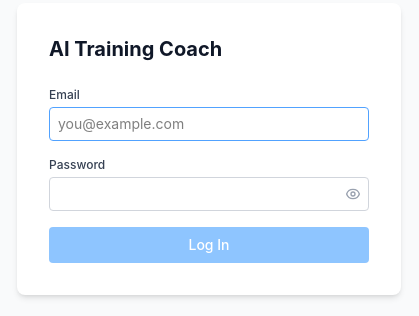
Scenario: LoginPage form behavior and error states › submit button is enabled when both email and password have content
The image size is (419, 316).
Type "user@example.com" into the field labelled "Email" at x=209, y=124, box [49, 107, 369, 141]
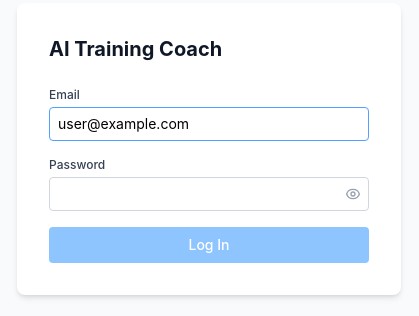
Type "password123" into the password field labelled "Password" at x=209, y=194, box [49, 177, 369, 211]
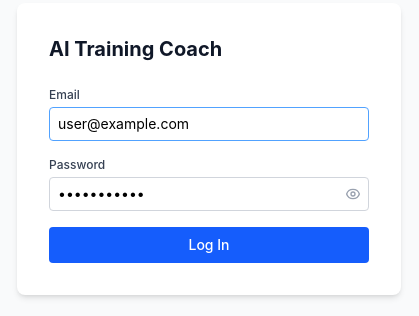
expect the button "Log In" is enabled: met, box [49, 227, 369, 263]
